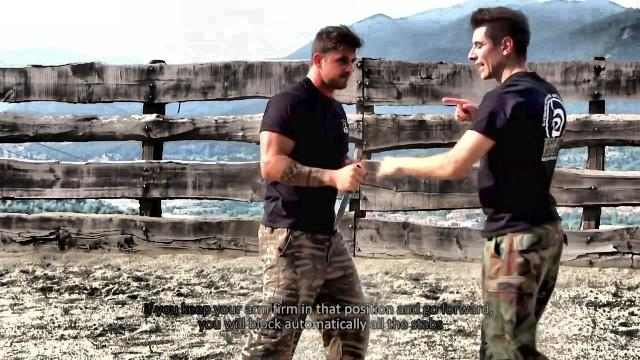knife: (328, 166, 368, 236)
